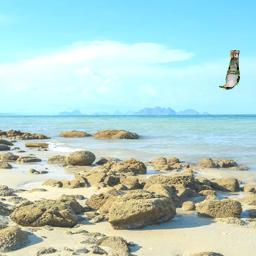Cuckoo: (219, 50, 240, 90)
